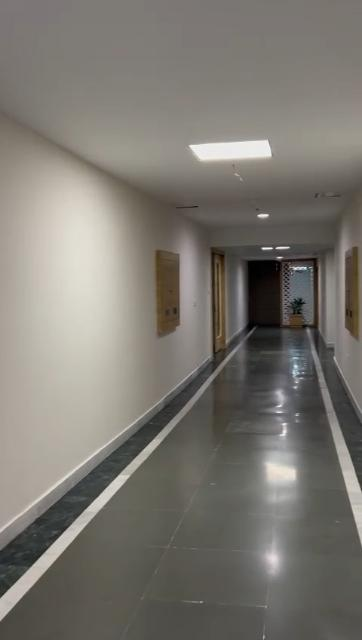floor: (0, 323, 362, 640)
object: (290, 296, 308, 336)
wall: (3, 114, 213, 531)
